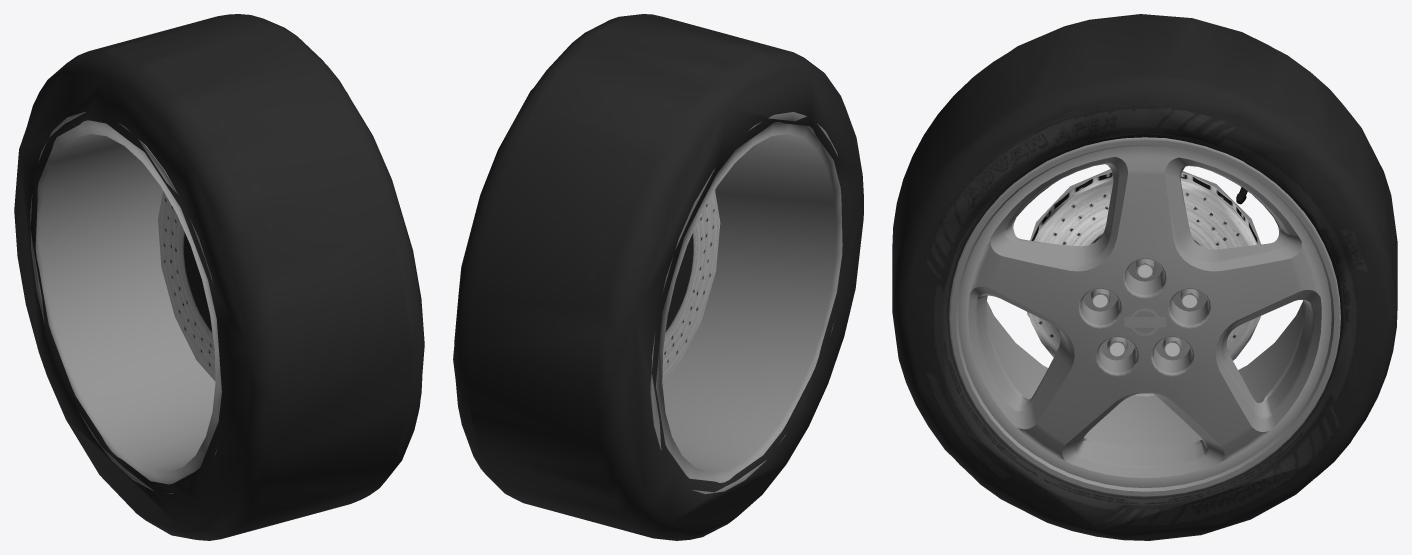
The model's file is tire_bl-CtmjKFfa.glb.
The picture shows the model from 3 angles, left to right: view 1: azimuth 30°, elevation 25°; view 2: azimuth 150°, elevation 25°; view 3: azimuth 270°, elevation 25°; orthographic projection.
Visible parts, largest first — view 1: wheela:polySurface325, M_Rim_Main_Max1; view 2: wheela:polySurface325, M_Rim_Main_Max1; view 3: wheela:polySurface325, M_Rim_Main_Max1, M_RimBadge_Max1.
Part boxes in pixels (x1,y1,x2,y2): wheela:polySurface325: [14, 14, 424, 540]; M_Rim_Main_Max1: [30, 112, 221, 493]; wheela:polySurface325: [453, 14, 863, 540]; M_Rim_Main_Max1: [650, 112, 842, 494]; wheela:polySurface325: [892, 14, 1397, 540]; M_Rim_Main_Max1: [949, 137, 1340, 497]; M_RimBadge_Max1: [1093, 186, 1247, 356].
Bounding box in the file's own units: 0.4503 × 1.02 × 1.01.
3 materials, 2 textured.
